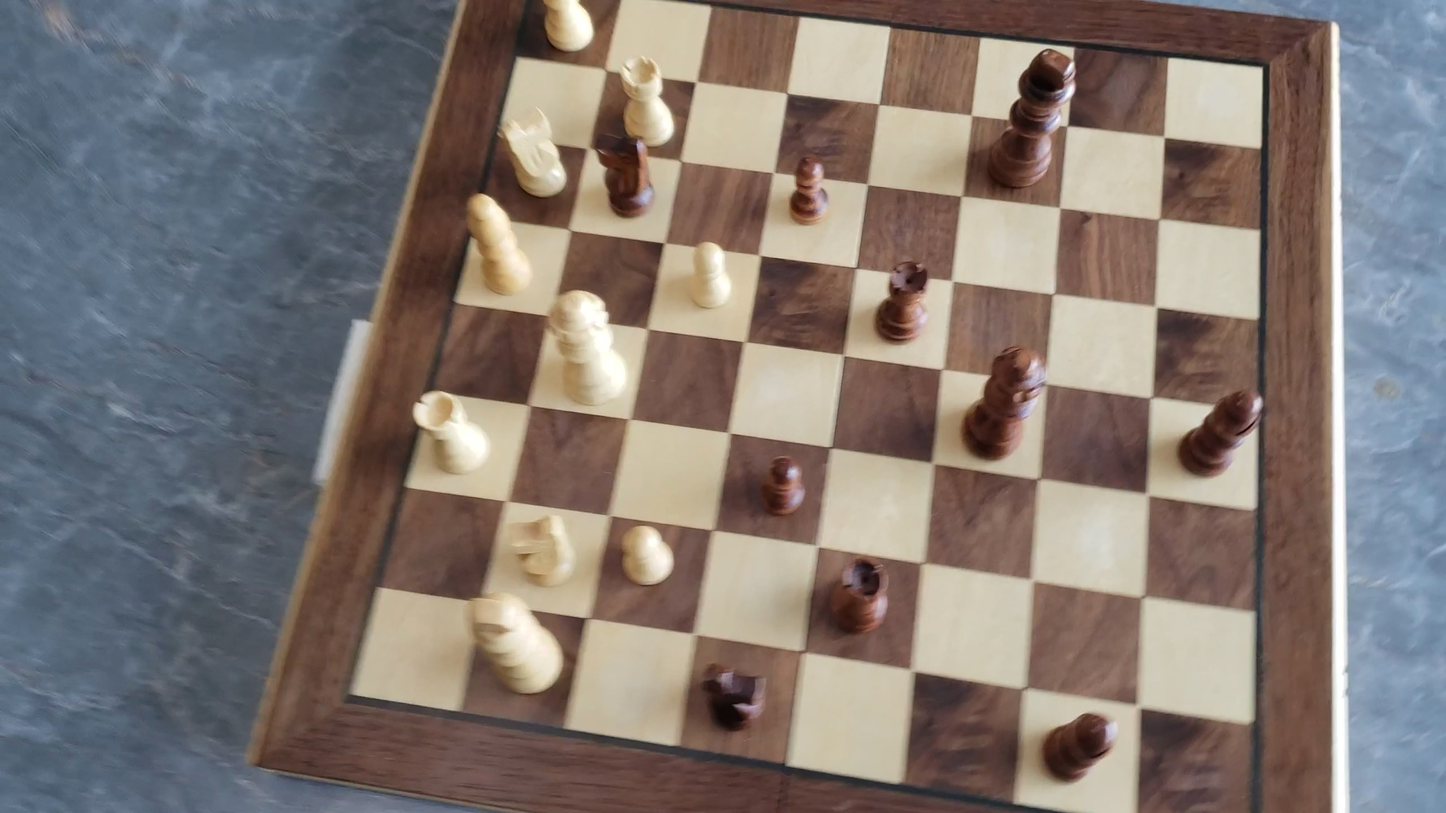black-bishop: (1176, 387, 1265, 479), (1038, 709, 1119, 784)
black-king: (984, 45, 1080, 190)
black-knight: (697, 661, 772, 741), (595, 132, 657, 219)
black-pawn: (786, 150, 831, 226), (759, 451, 808, 518)
black-queen: (953, 342, 1060, 479)
black-rook: (827, 556, 892, 637), (873, 258, 933, 344)
white-bishop: (460, 189, 536, 299)
white-king: (447, 590, 575, 700)
white-knight: (495, 100, 572, 201), (506, 510, 582, 590)
white-pawn: (616, 521, 679, 590), (685, 236, 738, 313)
white-queen: (543, 287, 633, 411)
white-rook: (410, 387, 495, 477), (615, 53, 679, 150)
